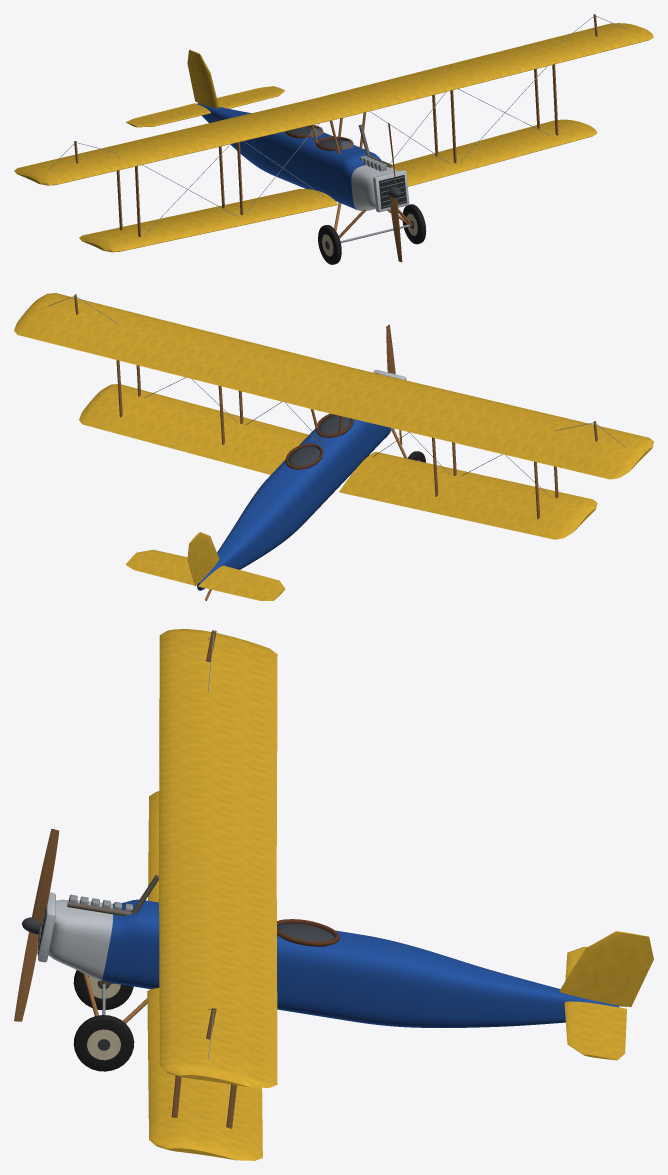
Rendered from barnstormer-biplane.glb.
3 views of the same model, one above another, from view 1: azimuth 30°, elevation 25°; view 2: azimuth 150°, elevation 25°; view 3: azimuth 270°, elevation 25° (orthographic). The views are drawn at different scales.
Visible parts, largest first — view 1: Barnstormer_Biplane, Wheel_R, Propeller, Wheel_L; view 2: Barnstormer_Biplane; view 3: Barnstormer_Biplane, Wheel_L, Propeller, Wheel_R.
Part boxes in pixels (x1,y1,x2,y2): Barnstormer_Biplane: (14, 14, 653, 252); Wheel_R: (318, 225, 341, 264); Propeller: (388, 123, 402, 262); Wheel_L: (402, 204, 426, 244); Barnstormer_Biplane: (14, 293, 653, 600); Barnstormer_Biplane: (37, 629, 653, 1160); Wheel_L: (73, 1015, 134, 1071); Propeller: (14, 829, 59, 1021); Wheel_R: (73, 970, 133, 1009).
Bounding box in the file's own units: 13.2 × 3.06 × 8.03.
14 materials, 2 textured.
